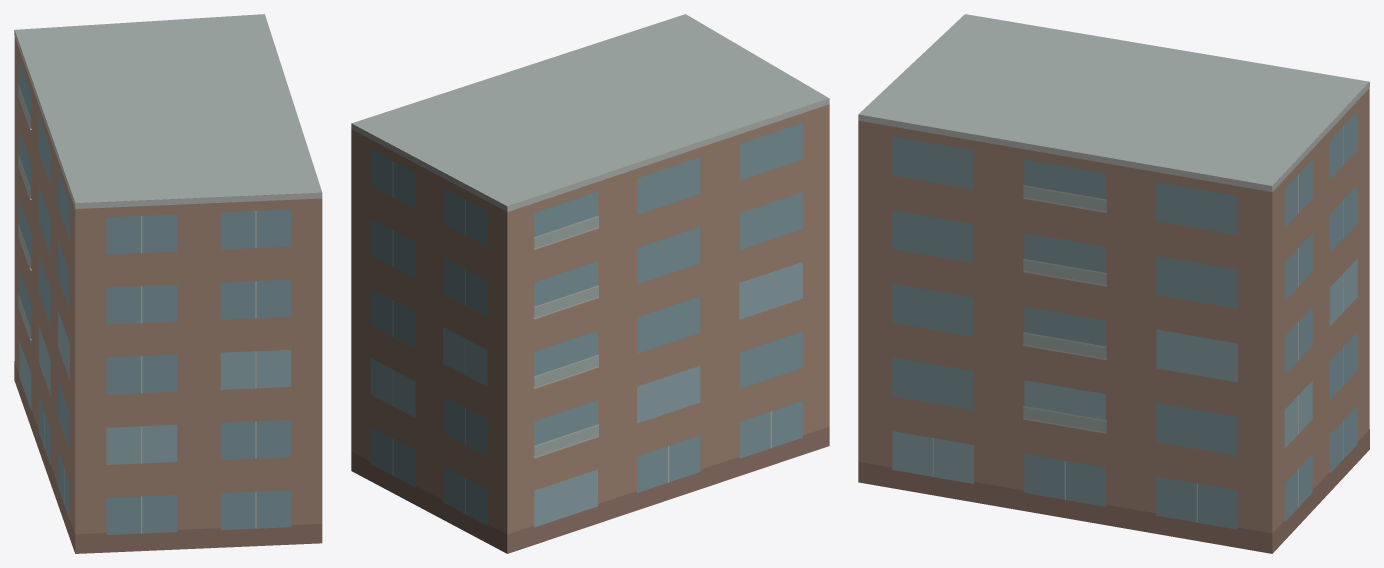
File: survey-upis-32564512.glb
3 renders of one model, left to right at view 1: azimuth 30°, elevation 25°; view 2: azimuth 150°, elevation 25°; view 3: azimuth 270°, elevation 25°, orthographic. The views are drawn at different scales.
Visible parts, largest first — view 1: survey-upis-32564512.tmp; view 2: survey-upis-32564512.tmp; view 3: survey-upis-32564512.tmp.
Part boxes in pixels (x1,y1,x2,y2): survey-upis-32564512.tmp: (14,14,322,553); survey-upis-32564512.tmp: (351,14,829,553); survey-upis-32564512.tmp: (858,14,1369,553).
Bounding box in the file's own units: 14.6 × 14.55 × 18.34.
